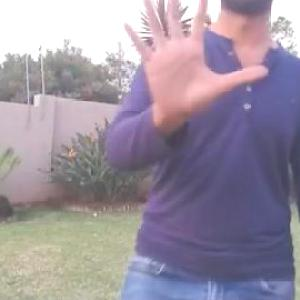follow_hand: (118, 0, 270, 120)
